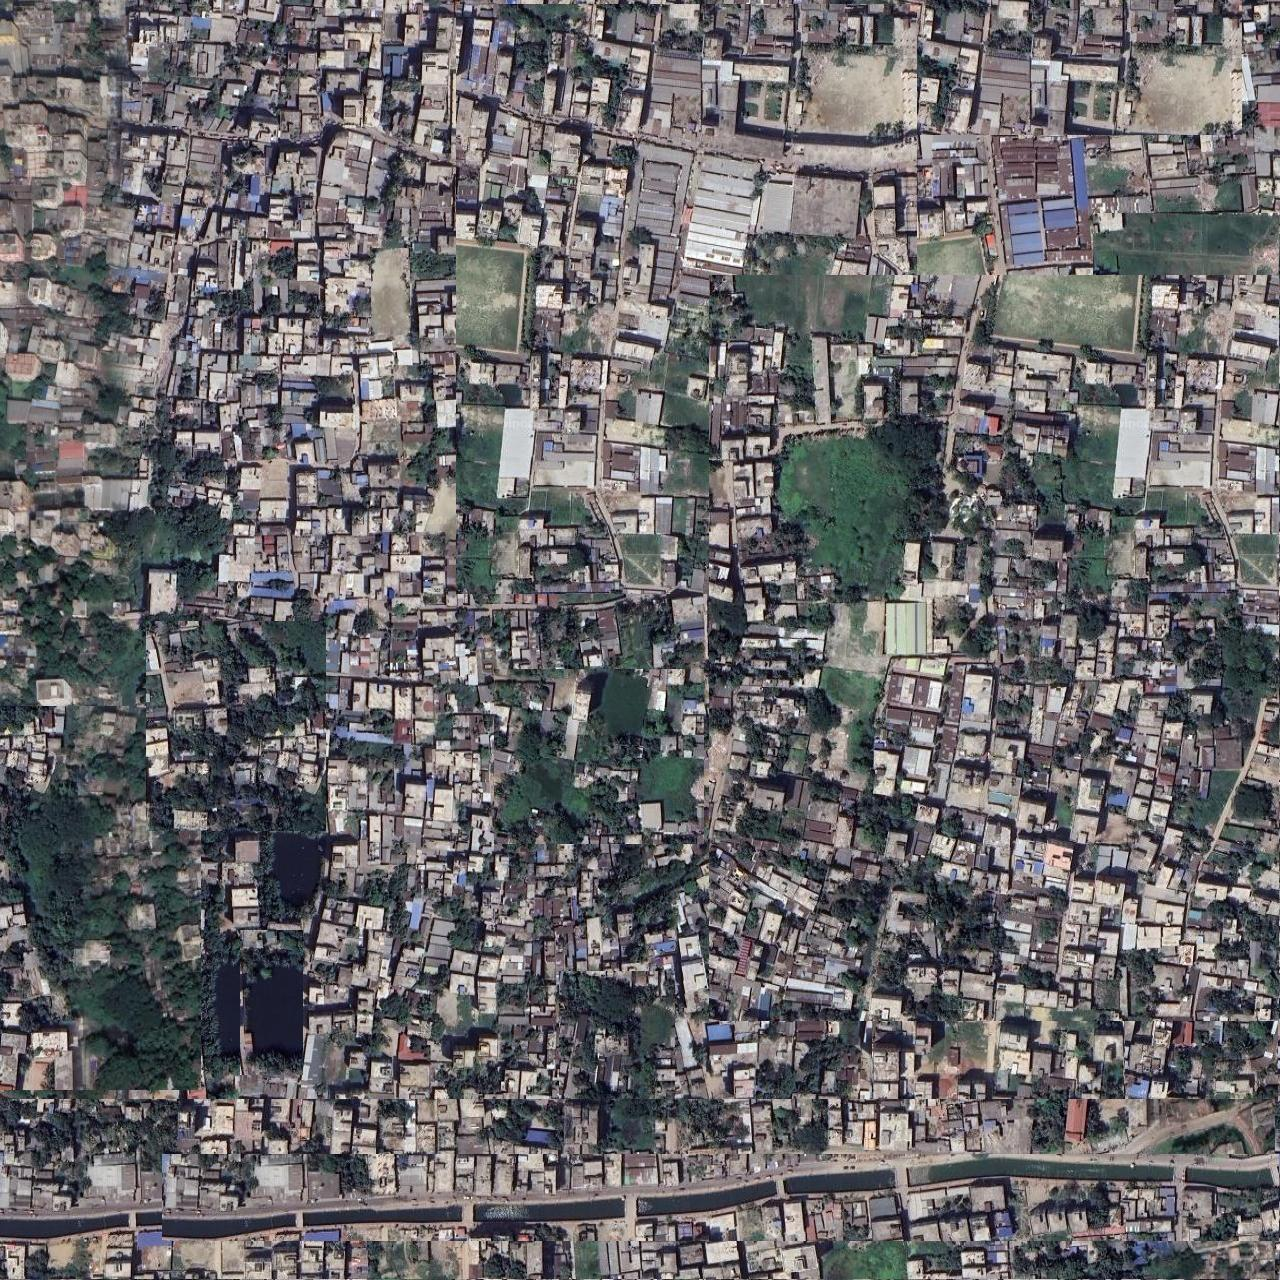greenery: (0, 707, 200, 1090), (531, 238, 730, 489), (6, 502, 237, 714), (148, 621, 326, 831), (495, 669, 704, 844), (790, 408, 988, 540), (1053, 423, 1207, 586), (1094, 213, 1279, 338), (1073, 1097, 1280, 1200), (560, 972, 675, 1152), (846, 254, 990, 335), (1104, 601, 1167, 769), (241, 931, 302, 1075), (712, 626, 771, 723), (182, 788, 241, 863), (753, 771, 822, 835), (368, 1238, 454, 1279), (372, 248, 410, 335), (879, 532, 924, 595), (1087, 572, 1163, 599)
house: (710, 275, 1279, 1021), (461, 0, 1280, 346), (456, 5, 917, 594), (150, 567, 655, 1051), (0, 1099, 1275, 1279), (215, 151, 601, 606), (0, 0, 454, 331), (0, 287, 370, 574), (461, 0, 1242, 135), (612, 674, 810, 1178), (116, 1015, 588, 1167), (872, 995, 1124, 1194), (1125, 846, 1278, 1101), (347, 340, 438, 474), (141, 723, 239, 801)
water: (162, 1155, 1280, 1241), (270, 832, 358, 911), (223, 966, 297, 1057), (170, 1165, 257, 1191)
